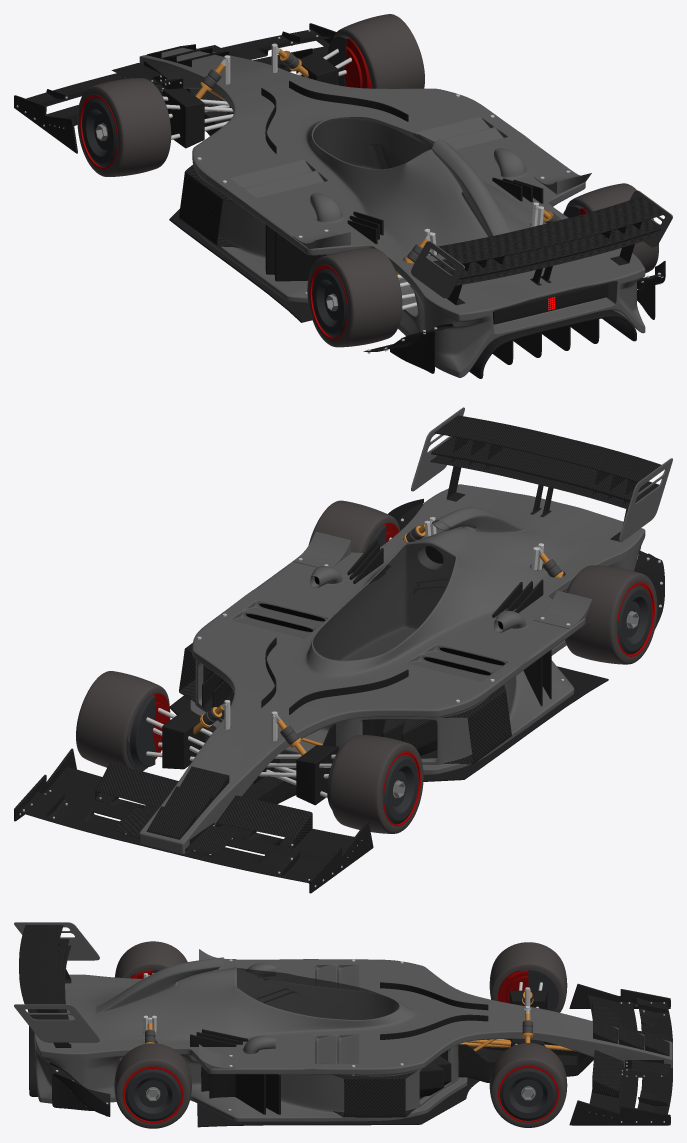
The picture shows the model from 3 angles, top to bottom: view 1: azimuth 30°, elevation 25°; view 2: azimuth 150°, elevation 25°; view 3: azimuth 270°, elevation 25°; orthographic projection. The views are drawn at different scales.
Visible parts, largest first — view 1: Plane_0, Plane.004_5, Circle.019_60, Circle.005_59, Plane.025_38, Circle.007_57, Cube.004_52, Plane.001_1, Plane.011_15, Plane.005_6, Plane.006_10, Cube.001_9 (+17 smaller); view 2: Plane_0, Plane.004_5, Plane.025_38, Plane.001_1, Circle.005_59, Circle.019_60, Circle.007_57, Plane.021_25, Cube.004_52, Plane.011_15, Plane.032_42, Plane.005_6 (+18 smaller); view 3: Plane_0, Circle.006_58, Circle.007_57, Plane.025_38, Plane.004_5, Plane.001_1, Plane.005_6, Plane.002_2, Plane.011_15, Circle.005_59, Plane.006_10, Plane.008_11 (+21 smaller).
Boxes of the visible parts, x1=… form: Plane_0: x1=139, y1=47, x2=645, y2=377; Plane.004_5: x1=433, y1=196, x2=664, y2=285; Circle.019_60: x1=307, y1=248, x2=402, y2=347; Circle.005_59: x1=77, y1=78, x2=171, y2=176; Plane.025_38: x1=313, y1=117, x2=434, y2=169; Circle.007_57: x1=333, y1=14, x2=424, y2=88; Cube.004_52: x1=162, y1=52, x2=338, y2=148; Plane.001_1: x1=26, y1=29, x2=330, y2=125; Plane.011_15: x1=179, y1=165, x2=239, y2=247; Plane.005_6: x1=411, y1=190, x2=672, y2=298; Plane.006_10: x1=265, y1=224, x2=326, y2=281; Cube.001_9: x1=493, y1=282, x2=608, y2=324; Plane_0: x1=139, y1=484, x2=645, y2=854; Plane.004_5: x1=430, y1=415, x2=661, y2=509; Plane.025_38: x1=313, y1=544, x2=455, y2=660; Plane.001_1: x1=18, y1=766, x2=354, y2=882; Circle.005_59: x1=329, y1=735, x2=423, y2=833; Circle.019_60: x1=565, y1=565, x2=657, y2=664; Circle.007_57: x1=76, y1=671, x2=169, y2=771; Plane.021_25: x1=95, y1=763, x2=312, y2=848; Cube.004_52: x1=162, y1=709, x2=338, y2=805; Plane.011_15: x1=179, y1=643, x2=511, y2=764; Plane.032_42: x1=146, y1=766, x2=229, y2=839; Plane.005_6: x1=411, y1=407, x2=672, y2=542; Plane_0: x1=34, y1=957, x2=672, y2=1121; Circle.006_58: x1=114, y1=1043, x2=191, y2=1128; Circle.007_57: x1=489, y1=1043, x2=567, y2=1127; Plane.025_38: x1=237, y1=968, x2=398, y2=1019; Plane.004_5: x1=19, y1=925, x2=71, y2=1019; Plane.001_1: x1=588, y1=995, x2=672, y2=1114; Plane.005_6: x1=14, y1=922, x2=99, y2=1042; Plane.002_2: x1=569, y1=984, x2=670, y2=1125; Plane.011_15: x1=333, y1=1071, x2=416, y2=1117; Circle.005_59: x1=489, y1=942, x2=567, y2=1012; Plane.006_10: x1=201, y1=1066, x2=280, y2=1114; Plane.008_11: x1=197, y1=1077, x2=479, y2=1127.
Bounding box in the file's own units: 7.41 × 3.15 × 16.68.
Materials: 15 (10 with a texture image).
